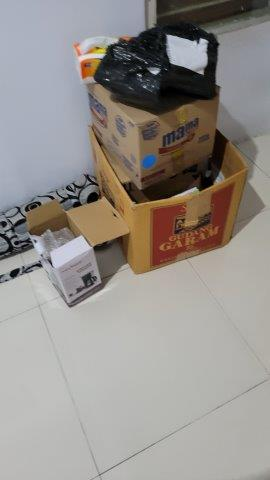kardus: (80, 83, 247, 273), (17, 193, 129, 309)
kertas: (166, 35, 207, 74)
